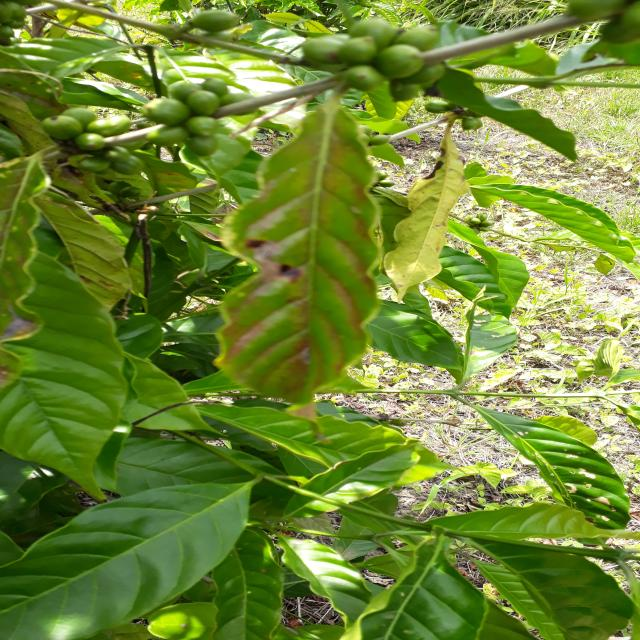Plaga-AranaRoja: (215, 97, 410, 408)
